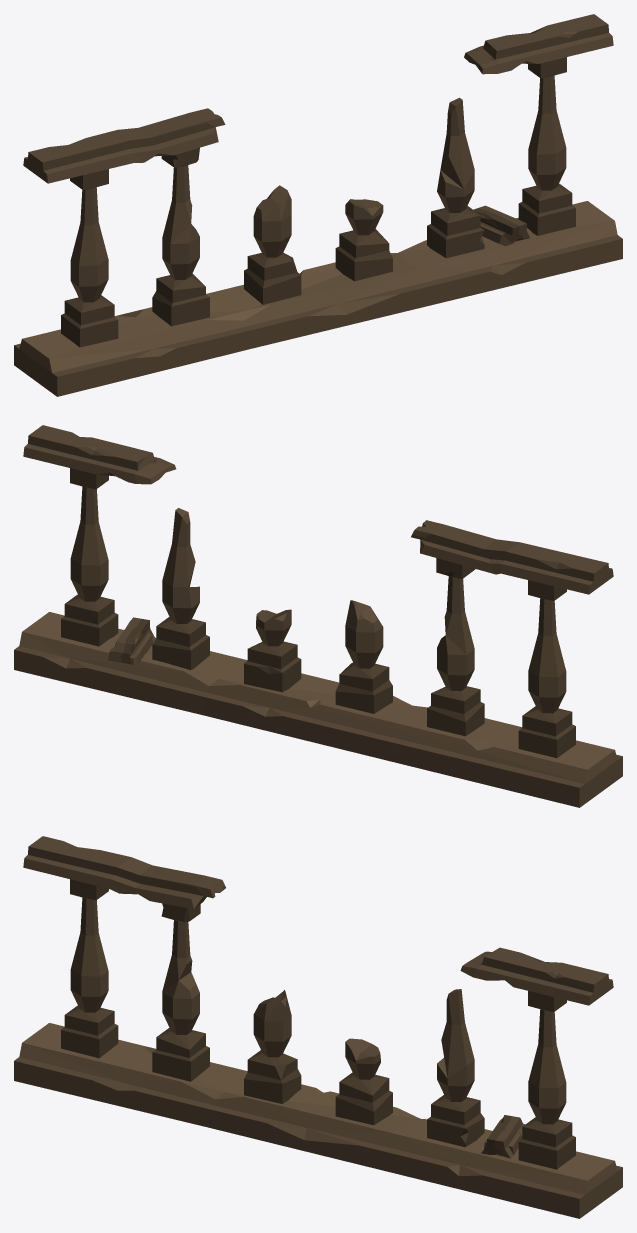
Rendered from SM_Bld_Railing_02.fbx.
3 renders of one model, top to bottom at view 1: azimuth 30°, elevation 25°; view 2: azimuth 150°, elevation 25°; view 3: azimuth 330°, elevation 25°, orthographic.
Parts seen in each view (by area): view 1: SM_Bld_Railing_02; view 2: SM_Bld_Railing_02; view 3: SM_Bld_Railing_02.
Part boxes in pixels (<box>): SM_Bld_Railing_02: <box>14,14,622,396</box>; SM_Bld_Railing_02: <box>14,425,622,807</box>; SM_Bld_Railing_02: <box>14,836,622,1218</box>.
Bounding box in the file's own units: 250 × 94.72 × 33.6.
1 material, 1 textured.
